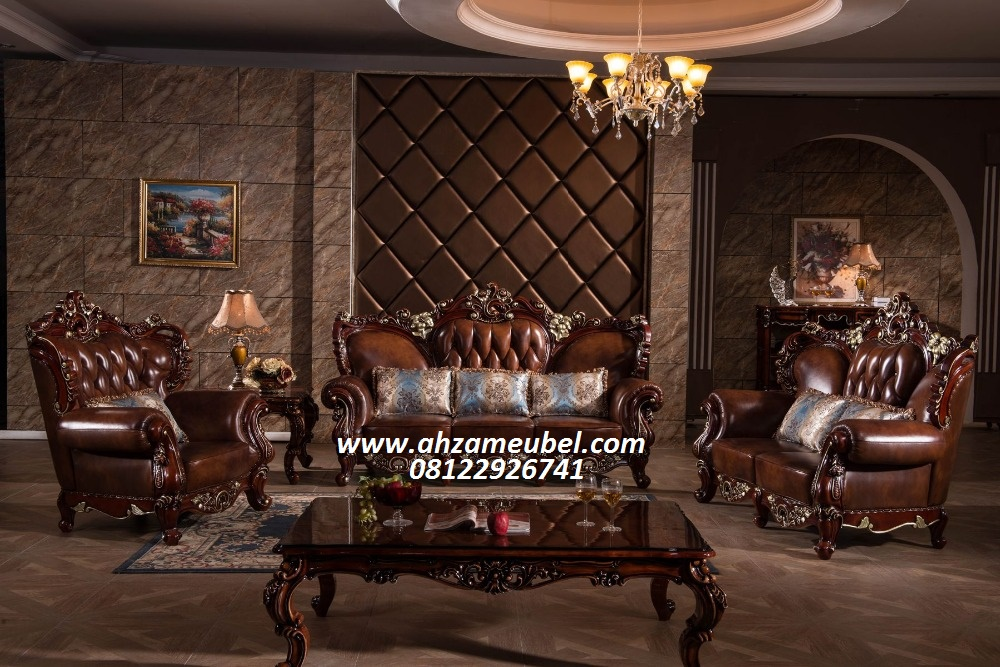Carving Chair: (303, 289, 675, 488), (719, 322, 989, 550), (30, 294, 273, 520)
Carving Table: (274, 486, 716, 667)
